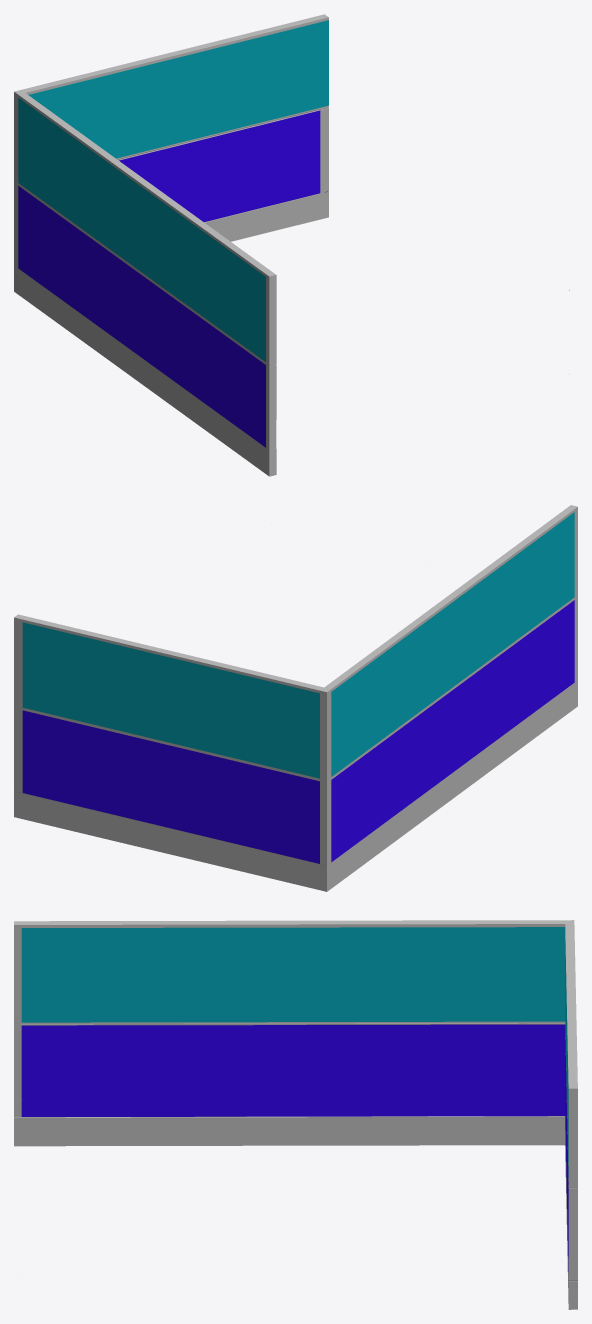
Rendered from Cubiculo.fbx.
3 views of the same model, one above another, from view 1: azimuth 30°, elevation 25°; view 2: azimuth 150°, elevation 25°; view 3: azimuth 270°, elevation 25° (orthographic). The views are drawn at different scales.
Visible parts, largest first — view 1: CUBICULO; view 2: CUBICULO; view 3: CUBICULO.
Boxes of the visible parts, x1,y1,x2,y2 form: CUBICULO: (14, 14, 569, 476); CUBICULO: (14, 505, 577, 891); CUBICULO: (14, 920, 577, 1309).
Size of the model in its own units: 168 by 102 by 237.
